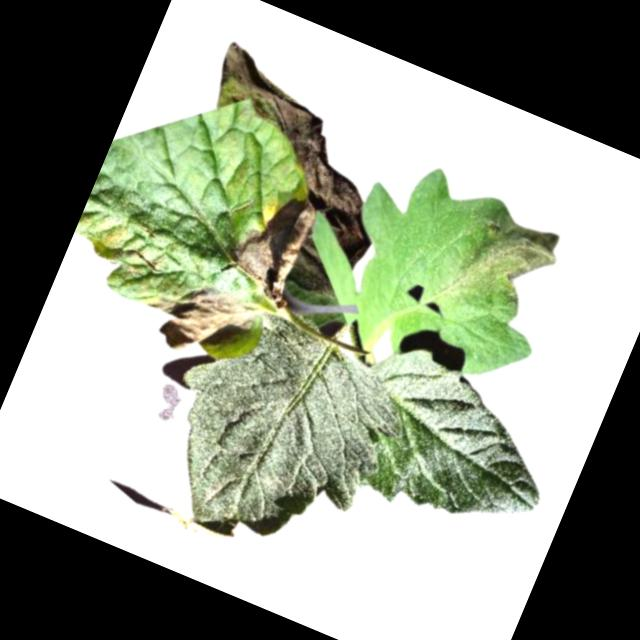Late_blight: (169, 39, 423, 273), (216, 169, 332, 312), (135, 263, 264, 376), (447, 200, 569, 316), (283, 224, 357, 302)
